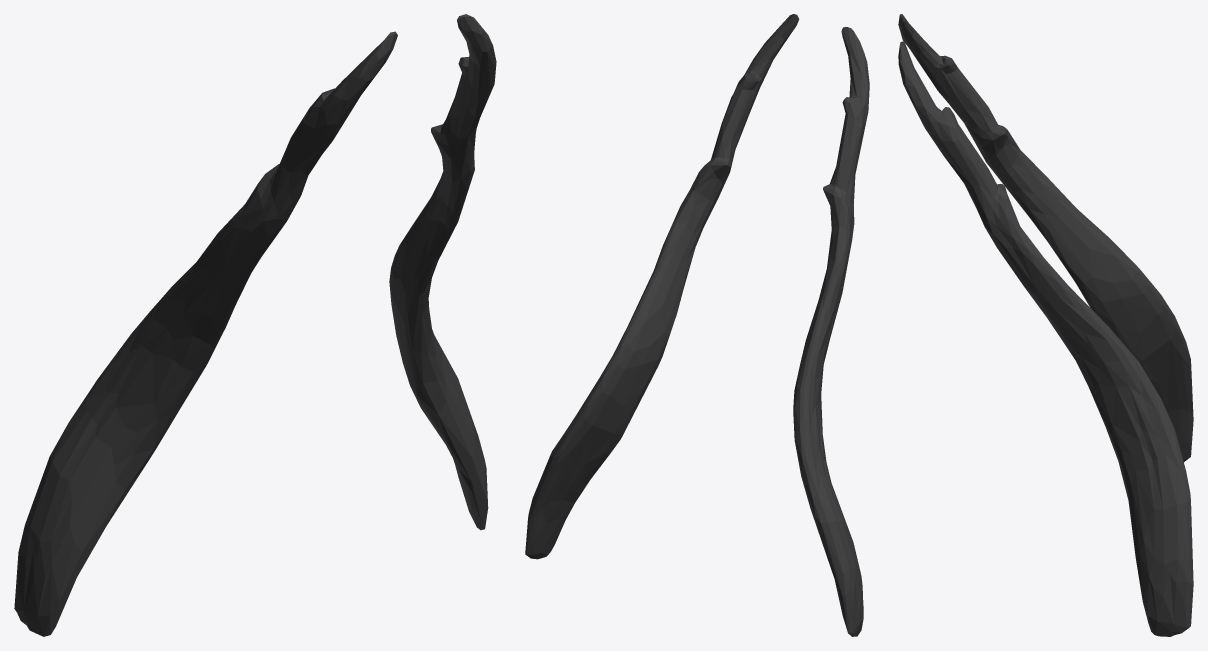
File: m_omotransversarius.glb
The picture shows the model from 3 angles, left to right: view 1: azimuth 30°, elevation 25°; view 2: azimuth 150°, elevation 25°; view 3: azimuth 270°, elevation 25°; orthographic projection. The views are drawn at different scales.
Parts seen in each view (by area): view 1: m_omotransversarius; view 2: m_omotransversarius; view 3: m_omotransversarius.
Part boxes in pixels (bbox=[...]): m_omotransversarius: bbox=[14, 14, 496, 636]; m_omotransversarius: bbox=[525, 14, 869, 636]; m_omotransversarius: bbox=[898, 14, 1193, 636].
Size of the model in its own units: 0.00634 by 0.00904 by 0.0046.
Materials: 1 (1 with a texture image).
